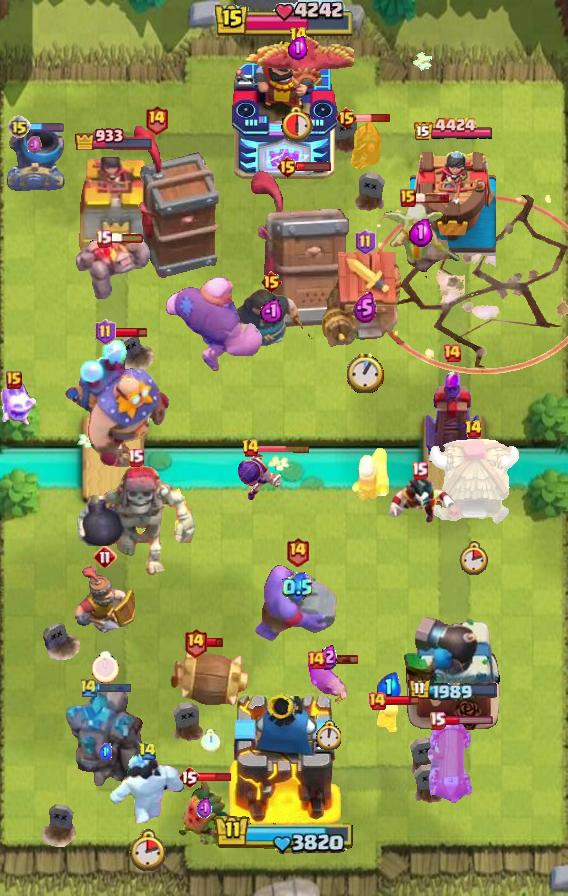archer-queen: (253, 563, 341, 643)
balloon: (163, 275, 265, 375)
battle-healer: (421, 723, 475, 805)
battle-ram: (344, 119, 386, 173)
cannoneer-tower: (63, 691, 147, 789)
clock: (214, 814, 354, 855), (213, 0, 355, 40)
dart-goblin: (249, 171, 353, 329), (131, 124, 221, 280)
earthquake: (75, 564, 135, 634)
electro-giant: (73, 464, 197, 576)
electro-spirit: (283, 573, 313, 603), (376, 672, 401, 702), (409, 217, 433, 247), (353, 293, 377, 323), (260, 297, 282, 322), (288, 35, 308, 60), (319, 644, 337, 670), (197, 797, 211, 820), (27, 135, 43, 155), (100, 744, 113, 761)
elixir: (129, 829, 166, 871), (347, 352, 384, 393), (280, 104, 316, 142), (460, 541, 488, 575), (93, 651, 120, 683), (315, 720, 341, 750), (199, 729, 220, 753)
emote: (443, 714, 494, 725), (257, 443, 311, 453), (385, 693, 420, 707), (112, 326, 147, 339), (29, 121, 65, 133), (414, 192, 450, 204), (109, 232, 145, 244), (96, 681, 131, 693), (199, 771, 234, 783), (296, 161, 332, 172), (325, 654, 360, 665), (357, 113, 392, 123), (205, 637, 224, 648)
giant: (302, 658, 354, 708)
goblin-ball: (237, 449, 285, 503)
goblin-barrel: (175, 778, 233, 848)
guard: (370, 194, 568, 373)
heal-spirit: (375, 702, 401, 734)
ice-spirit-evolution-symbol: (421, 368, 483, 464)
king-tower: (226, 688, 342, 826), (230, 41, 338, 181)
little-prince: (63, 337, 171, 471)
lumberjack: (382, 470, 456, 528)
mirror: (0, 377, 40, 427)
mother-witch: (242, 34, 354, 104)
musketeer: (5, 127, 65, 191)
poison: (377, 195, 465, 279)
prince: (426, 437, 520, 527)
queen-tower: (410, 144, 496, 255), (71, 154, 157, 256)
rage: (110, 753, 184, 823)
royal-hog: (225, 287, 317, 349)
selected: (409, 677, 500, 702), (414, 117, 495, 143), (73, 126, 154, 151)
sparky: (322, 251, 408, 349)
text: (144, 105, 169, 136), (286, 536, 311, 567), (183, 627, 208, 658), (7, 115, 31, 139), (93, 545, 117, 569), (335, 106, 358, 130), (276, 155, 299, 179), (260, 270, 283, 294), (355, 229, 376, 255), (96, 319, 117, 345), (178, 765, 200, 789), (79, 677, 99, 699), (288, 26, 308, 46), (442, 343, 462, 363), (464, 419, 484, 439), (306, 650, 326, 670), (367, 691, 387, 711), (241, 438, 260, 458), (138, 743, 157, 762), (128, 449, 145, 468), (412, 461, 429, 480), (430, 710, 447, 729), (96, 229, 113, 247), (400, 189, 416, 207), (6, 371, 22, 389)
the-log: (168, 646, 252, 708)
tombstone: (349, 445, 391, 503)
tower-bar: (402, 615, 504, 731)
valkyrie-evolution: (76, 237, 150, 299)
